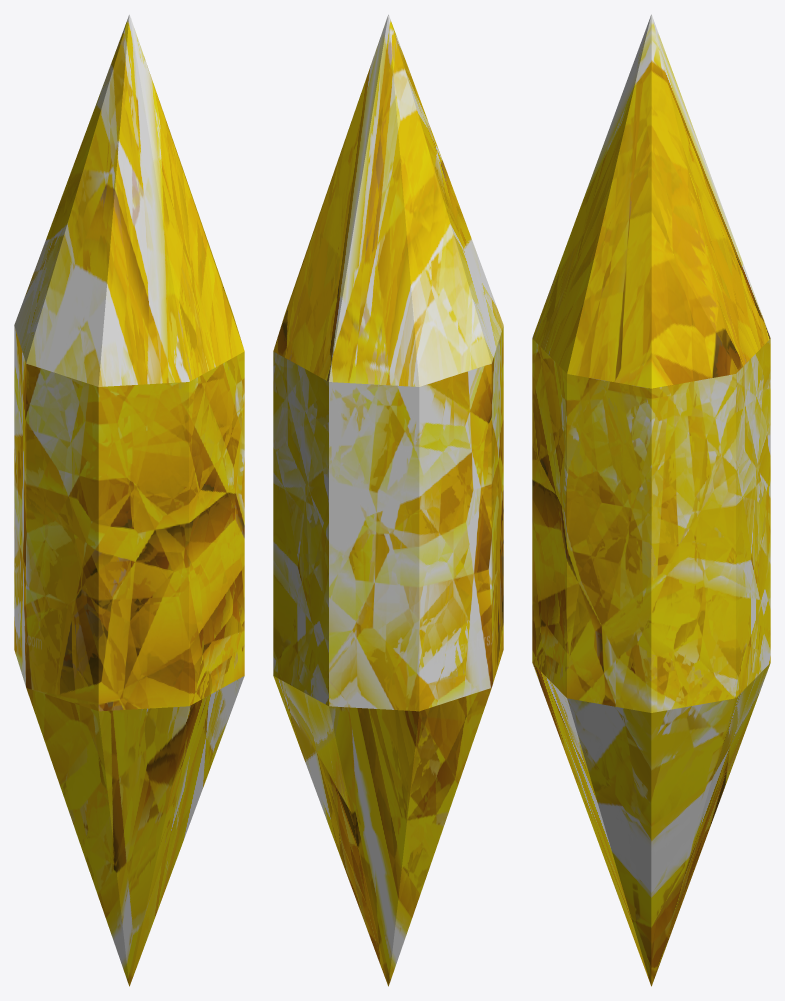
File: CrystalWallClimb.fbx
3 renders of one model, left to right at view 1: azimuth 30°, elevation 25°; view 2: azimuth 150°, elevation 25°; view 3: azimuth 270°, elevation 25°, orthographic.
Parts seen in each view (by area): view 1: Cylinder; view 2: Cylinder; view 3: Cylinder.
Boxes of the visible parts, x1=… form: Cylinder: x1=14, y1=14, x2=244, y2=986; Cylinder: x1=273, y1=14, x2=503, y2=986; Cylinder: x1=532, y1=14, x2=770, y2=986.
Size of the model in its own units: 200 by 900 by 200.
